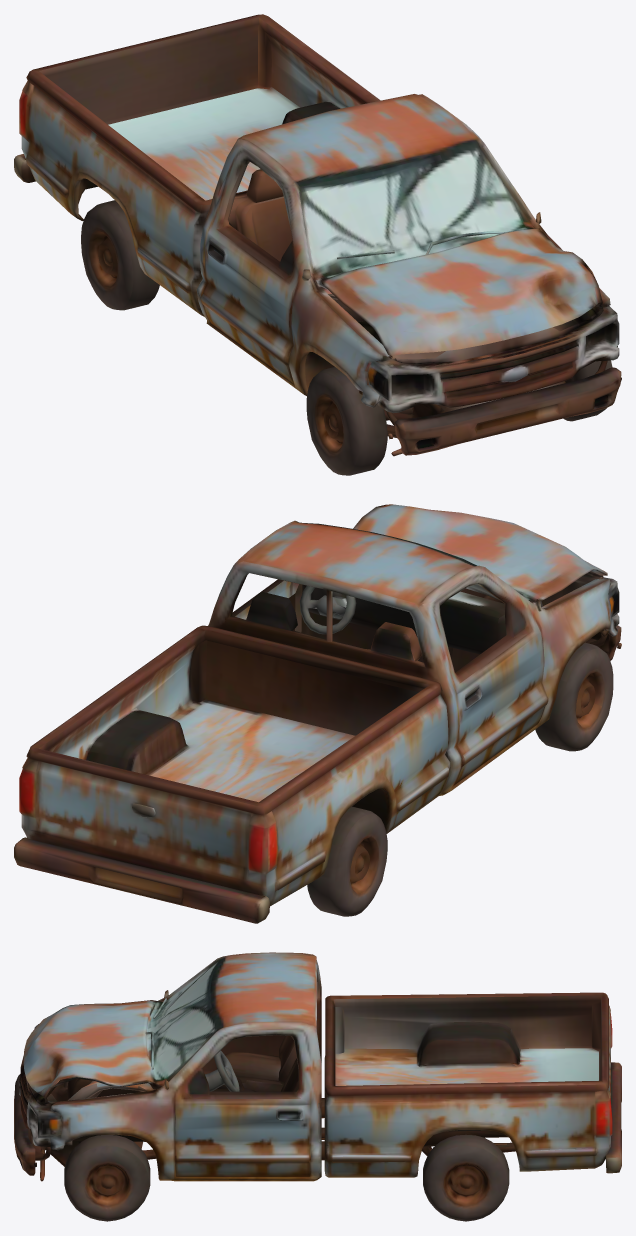
Rendered from rusty_crashed_pickup_truck_3820a2c5_v2.glb.
3 renders of one model, top to bottom at view 1: azimuth 30°, elevation 25°; view 2: azimuth 150°, elevation 25°; view 3: azimuth 270°, elevation 25°, orthographic. The views are drawn at different scales.
Visible parts, largest first — view 1: material; view 2: material; view 3: material.
Part boxes in pixels (left/top/right/bottom): material: left=14, top=14, right=621, bottom=475; material: left=14, top=504, right=621, bottom=923; material: left=14, top=952, right=621, bottom=1221.
Bounding box in the file's own units: 0.7596 × 0.6522 × 1.9.
1 material, 1 textured.
